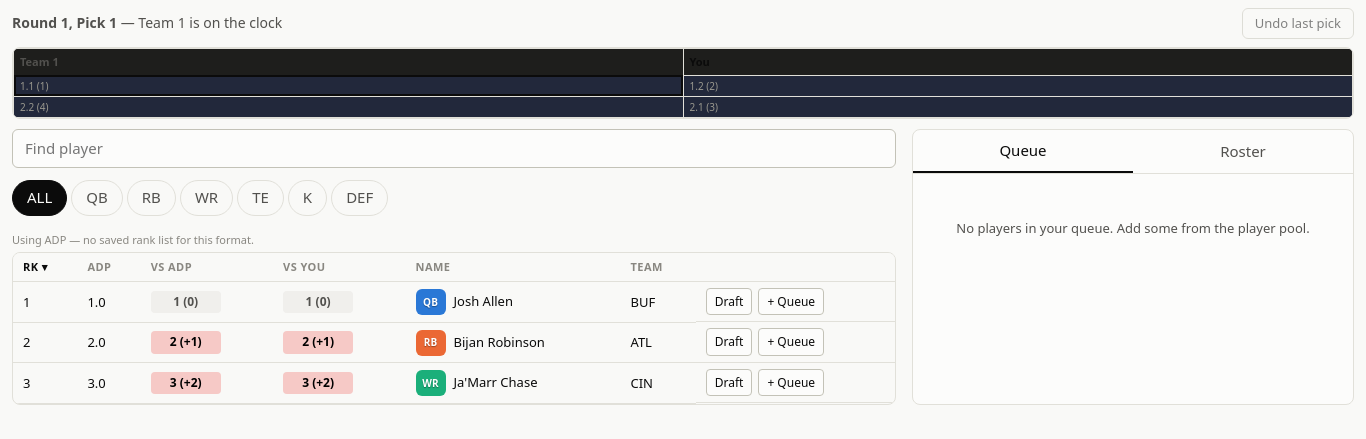
Test: DraftRoom › drafting a player updates the board and shows whose turn it is
The image size is (1366, 439).
Check: the text "Josh Allen" is shown, box [454, 292, 513, 310]
Click the button "Draft" in the row of "1.0".
click(729, 302)  # box [706, 288, 752, 315]
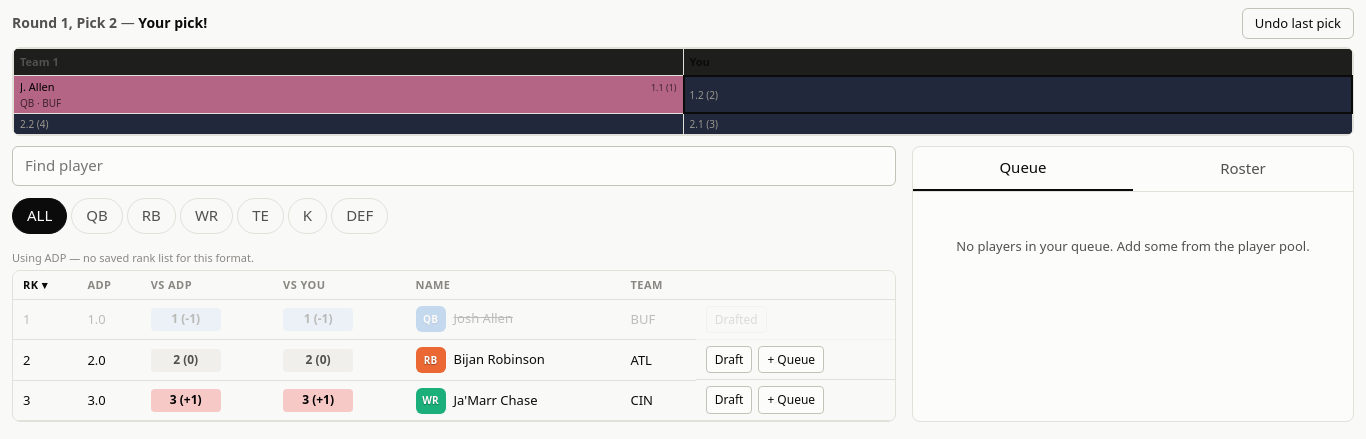
Check: the text "Your pick!" is shown, box [138, 13, 207, 32]
Check: the text "J. Allen" is shown, box [20, 79, 54, 95]
